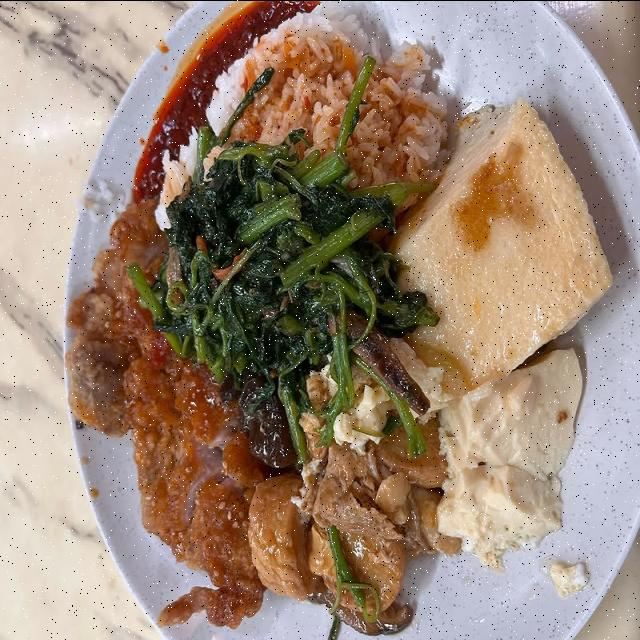Chicken: (66, 201, 277, 627)
Egg: (390, 100, 611, 569), (334, 381, 394, 454)
Green veg: (128, 58, 438, 463)
Rice: (206, 10, 450, 186), (156, 133, 197, 227)
Tofu: (249, 421, 460, 634)
